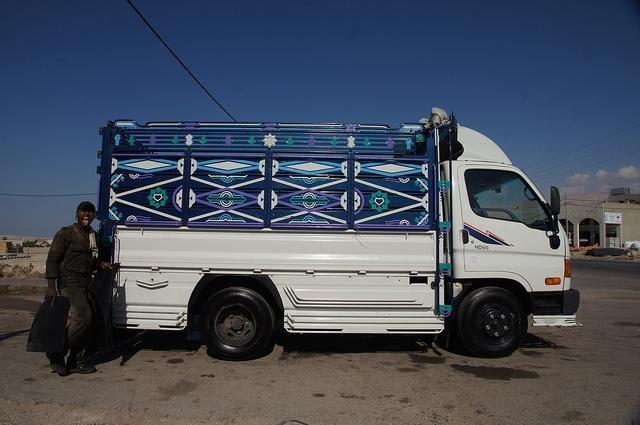truck: (101, 116, 578, 366)
